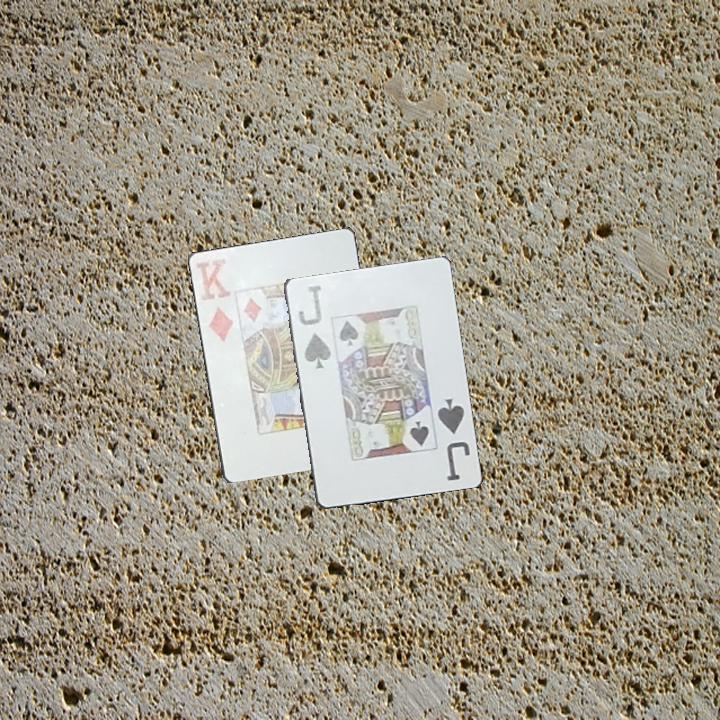Js: (294, 280, 334, 371), (433, 394, 473, 484)
Kd: (192, 254, 236, 344)
